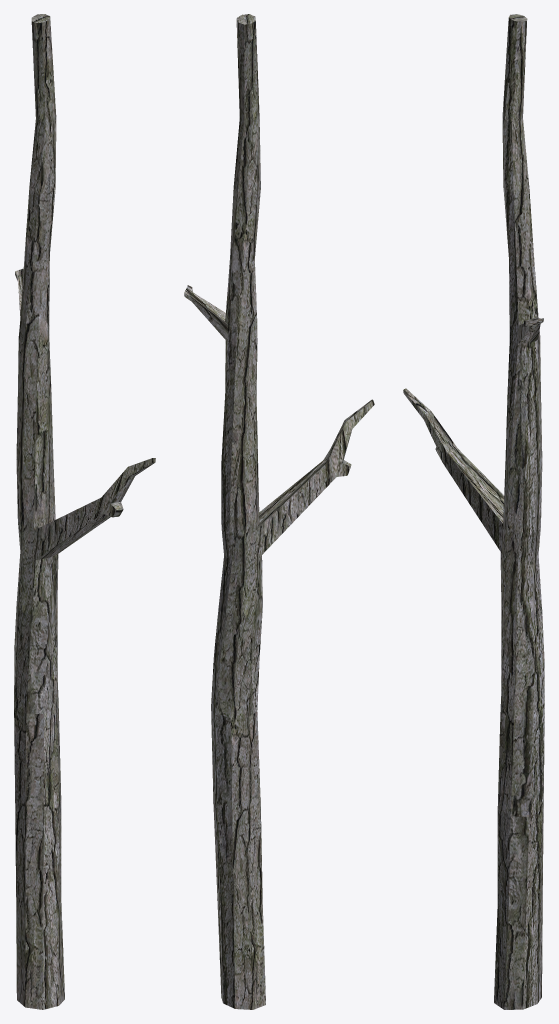
File: stick.obj
3 renders of one model, left to right at view 1: azimuth 90°, elevation 25°; view 2: azimuth 150°, elevation 25°; view 3: azimuth 270°, elevation 25°, orthographic.
Visible parts, largest first — view 1: Bark; view 2: Bark; view 3: Bark.
Boxes of the visible parts, left/top/right/bottom form: Bark: left=14, top=14, right=155, bottom=1009; Bark: left=184, top=14, right=374, bottom=1009; Bark: left=403, top=14, right=544, bottom=1009.
Bounding box in the file's own units: 0.3361 × 2.5 × 0.326.
Materials: 1 (1 with a texture image).
